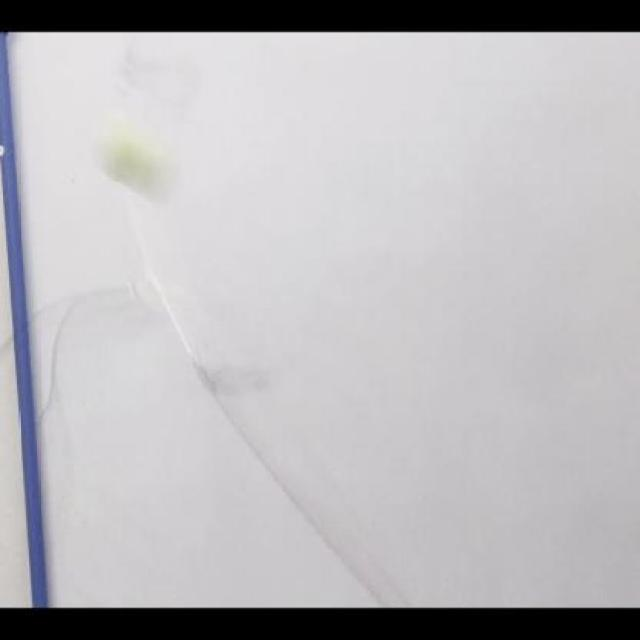baseball: (94, 119, 166, 201)
